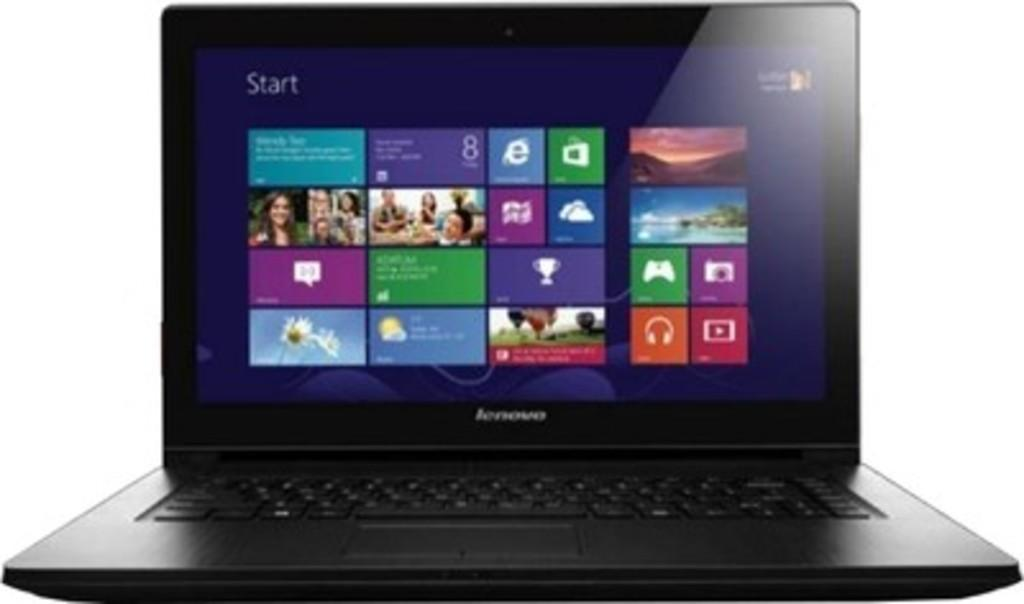Laptop: (46, 38, 940, 604)
